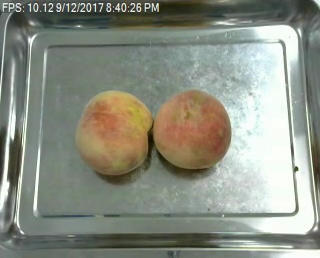Peach: (75, 89, 152, 175), (154, 89, 231, 169)
